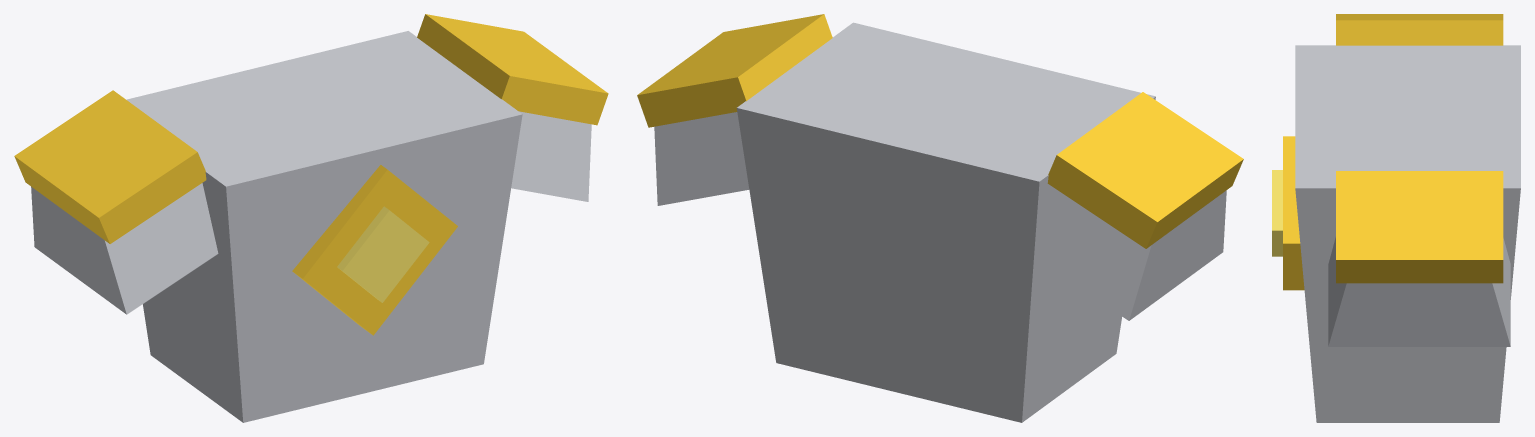
The model's file is Skin_PaladinWings.obj.
The picture shows the model from 3 angles, left to right: view 1: azimuth 30°, elevation 25°; view 2: azimuth 150°, elevation 25°; view 3: azimuth 270°, elevation 25°; orthographic projection. The views are drawn at different scales.
Visible parts, largest first — view 1: Skin_PaladinWings_BaseArmor, Skin_PaladinWings_TrimMetal, Skin_PaladinWings_EmissiveCore; view 2: Skin_PaladinWings_BaseArmor, Skin_PaladinWings_TrimMetal; view 3: Skin_PaladinWings_BaseArmor, Skin_PaladinWings_TrimMetal, Skin_PaladinWings_EmissiveCore.
Part boxes in pixels (bbox=[...]): Skin_PaladinWings_BaseArmor: bbox=[31, 31, 591, 422]; Skin_PaladinWings_TrimMetal: bbox=[14, 14, 608, 335]; Skin_PaladinWings_EmissiveCore: bbox=[337, 206, 429, 302]; Skin_PaladinWings_BaseArmor: bbox=[654, 22, 1226, 422]; Skin_PaladinWings_TrimMetal: bbox=[637, 14, 1243, 248]; Skin_PaladinWings_BaseArmor: bbox=[1295, 45, 1520, 422]; Skin_PaladinWings_TrimMetal: bbox=[1283, 14, 1503, 290]; Skin_PaladinWings_EmissiveCore: bbox=[1272, 170, 1282, 256].
Bounding box in the file's own units: 0.7652 × 0.3908 × 0.3274.
